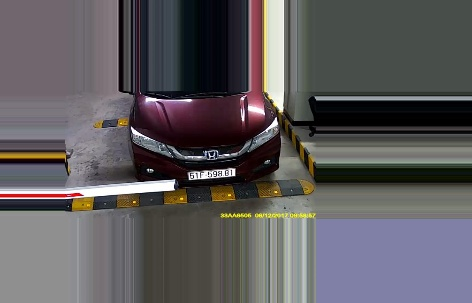plate: (187, 166, 237, 180)
